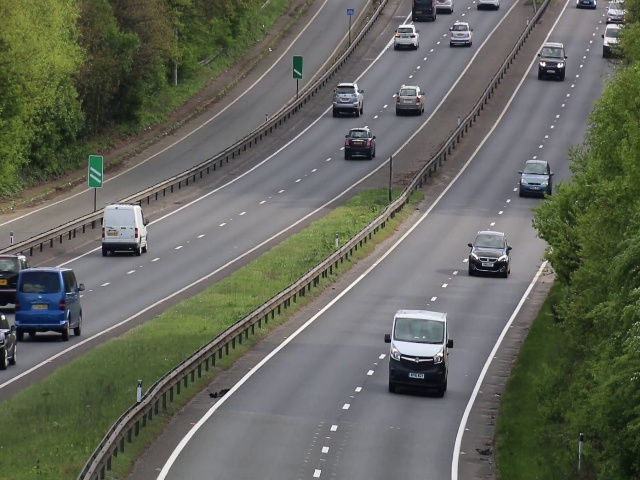car: (387, 310, 450, 399), (17, 268, 84, 342), (100, 204, 148, 254), (470, 229, 509, 278), (537, 39, 566, 83), (520, 158, 551, 197), (332, 81, 364, 117), (344, 128, 376, 160), (396, 84, 425, 115), (393, 23, 418, 50), (450, 21, 473, 46)
